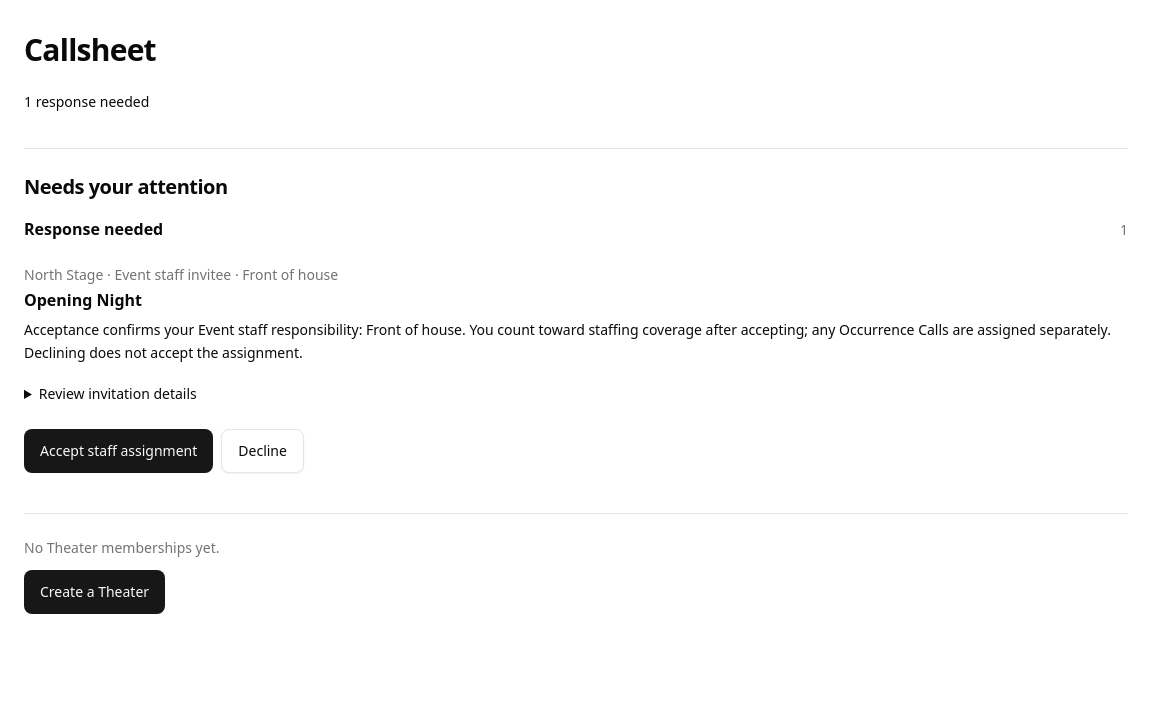
Test case: explains Staff responsibility and preserves unknown historical context without an invented deadline
Expected: the text "Acceptance confirms your Event staff responsibility: Front of house" is shown, [24, 319, 1128, 364]
Click the heading "Review invitation details". click: [118, 394]
box: [39, 384, 197, 403]
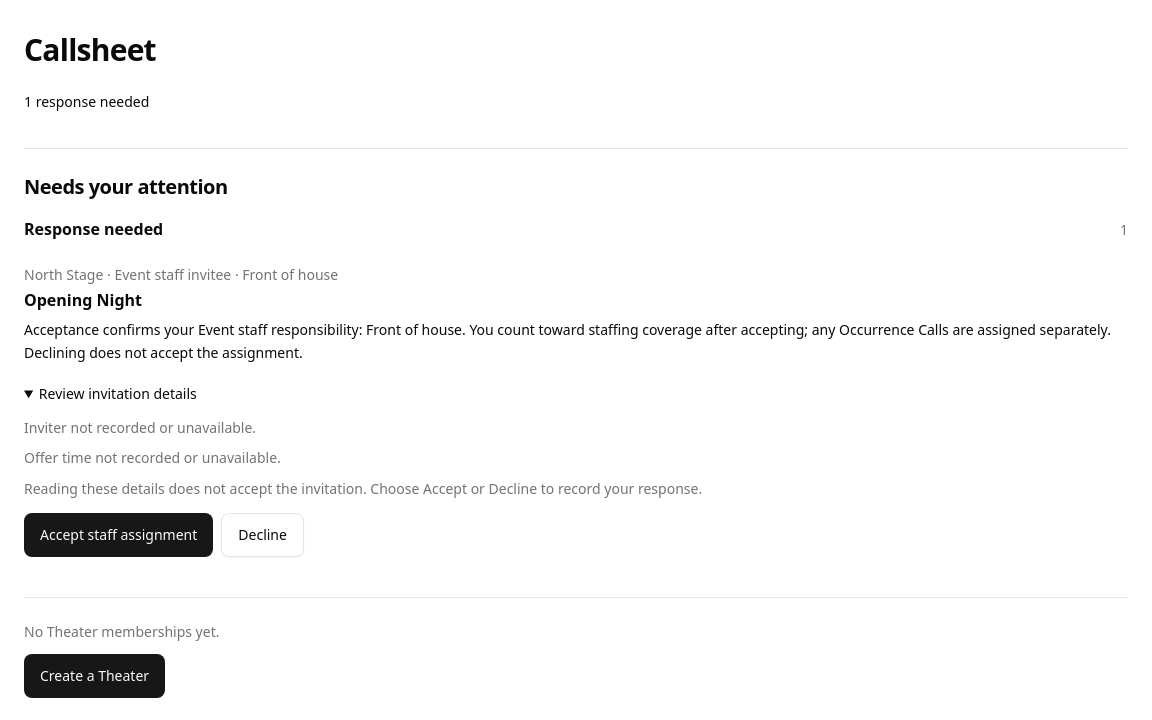
Expected: the text "Inviter not recorded or unavailable." is shown, [24, 418, 256, 436]
Expected: the text "Offer time not recorded or unavailable." is shown, [24, 448, 281, 467]
